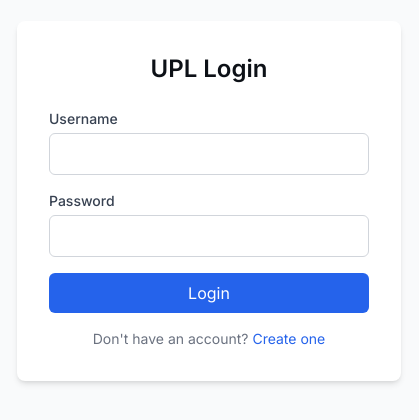
LoginPage › shows error on invalid credentials
Type "bad" into the field labelled "Username" at {"x": 209, "y": 154}, box [49,133,369,175]
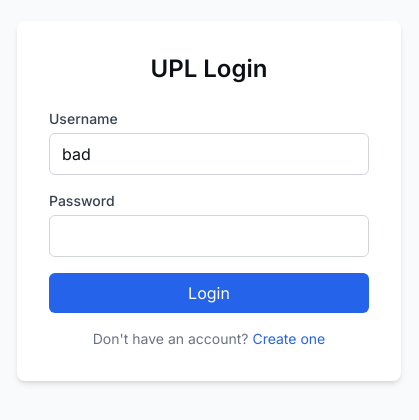
Type "bad" into the password field labelled "Password" at {"x": 209, "y": 236}, box [49,215,369,257]
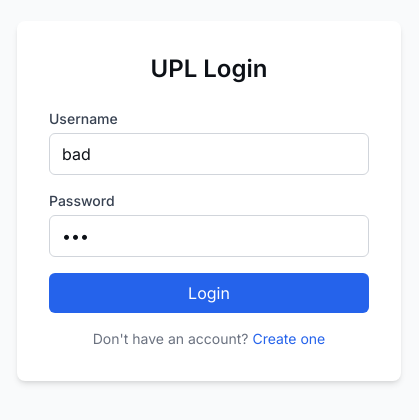
Click the button "Login" at {"x": 209, "y": 293}, box [49,273,369,313]
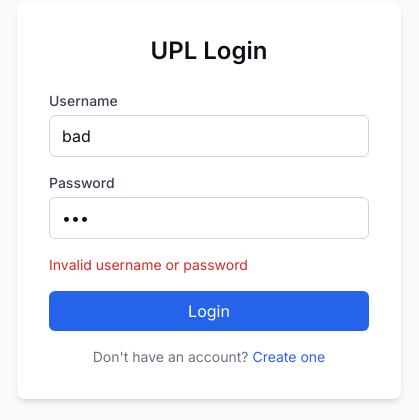
Now the text "Invalid username or password" is shown, box [49,256,248,273]
